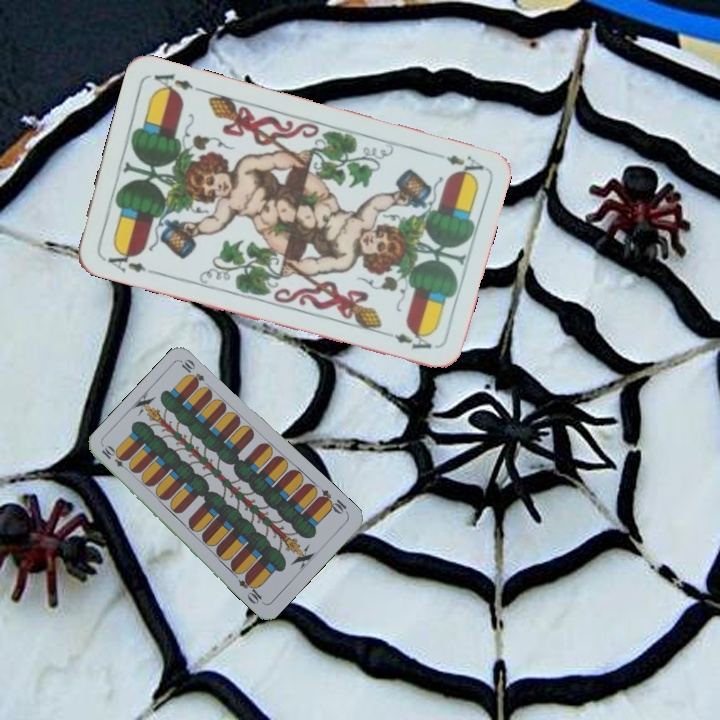E10: (314, 485, 351, 517), (98, 442, 133, 474)
EA: (99, 245, 157, 275), (442, 151, 486, 180)
